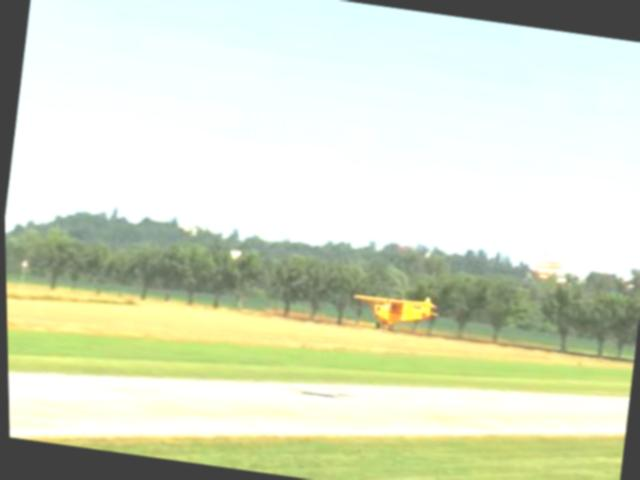uav: (342, 284, 441, 340)
